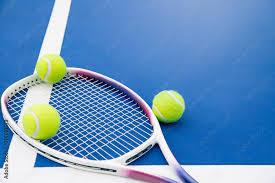tennis ball: (23, 105, 61, 140), (153, 90, 186, 124), (36, 54, 66, 82)
tennis racket: (1, 68, 196, 182)
